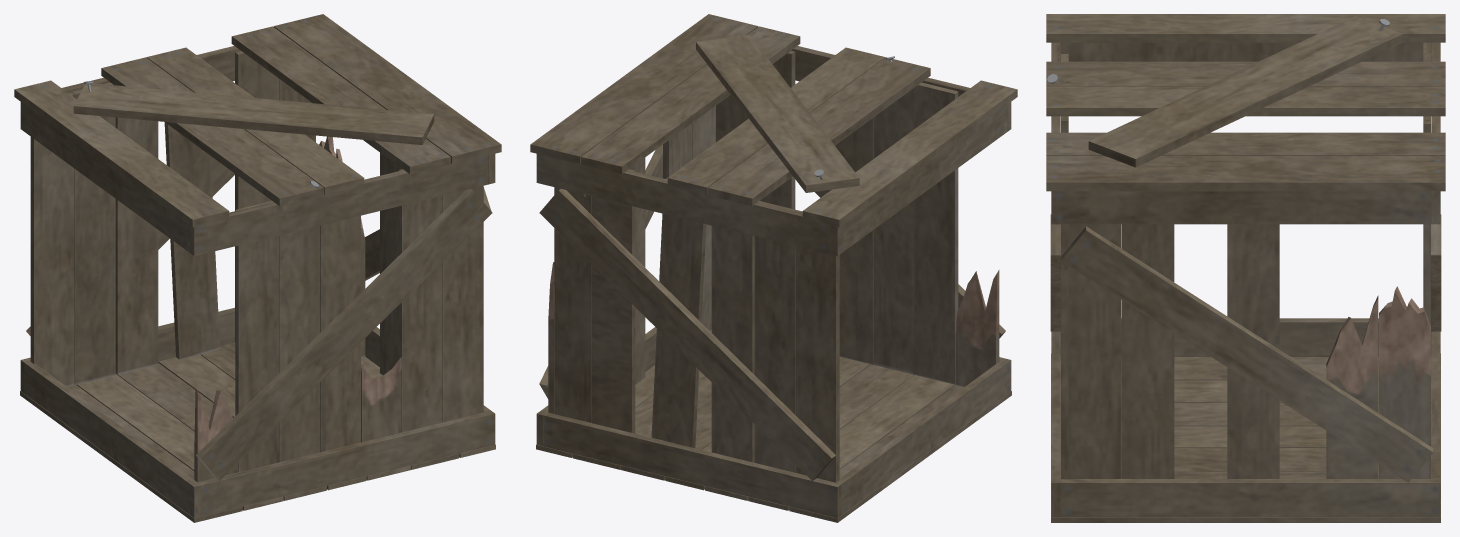
The model's file is DamagedCrate06.glb.
The picture shows the model from 3 angles, left to right: view 1: azimuth 30°, elevation 25°; view 2: azimuth 150°, elevation 25°; view 3: azimuth 270°, elevation 25°; orthographic projection. The views are drawn at different scales.
Parts seen in each view (by area): view 1: Cube_007; view 2: Cube_007; view 3: Cube_007.
Boxes of the visible parts, box(x1,y1,x2,y2) form: Cube_007: box(14, 14, 501, 522); Cube_007: box(530, 14, 1017, 522); Cube_007: box(1046, 14, 1445, 522).
Bounding box in the file's own units: 0.8187 × 0.8179 × 0.8184.
1 material, 1 textured.
